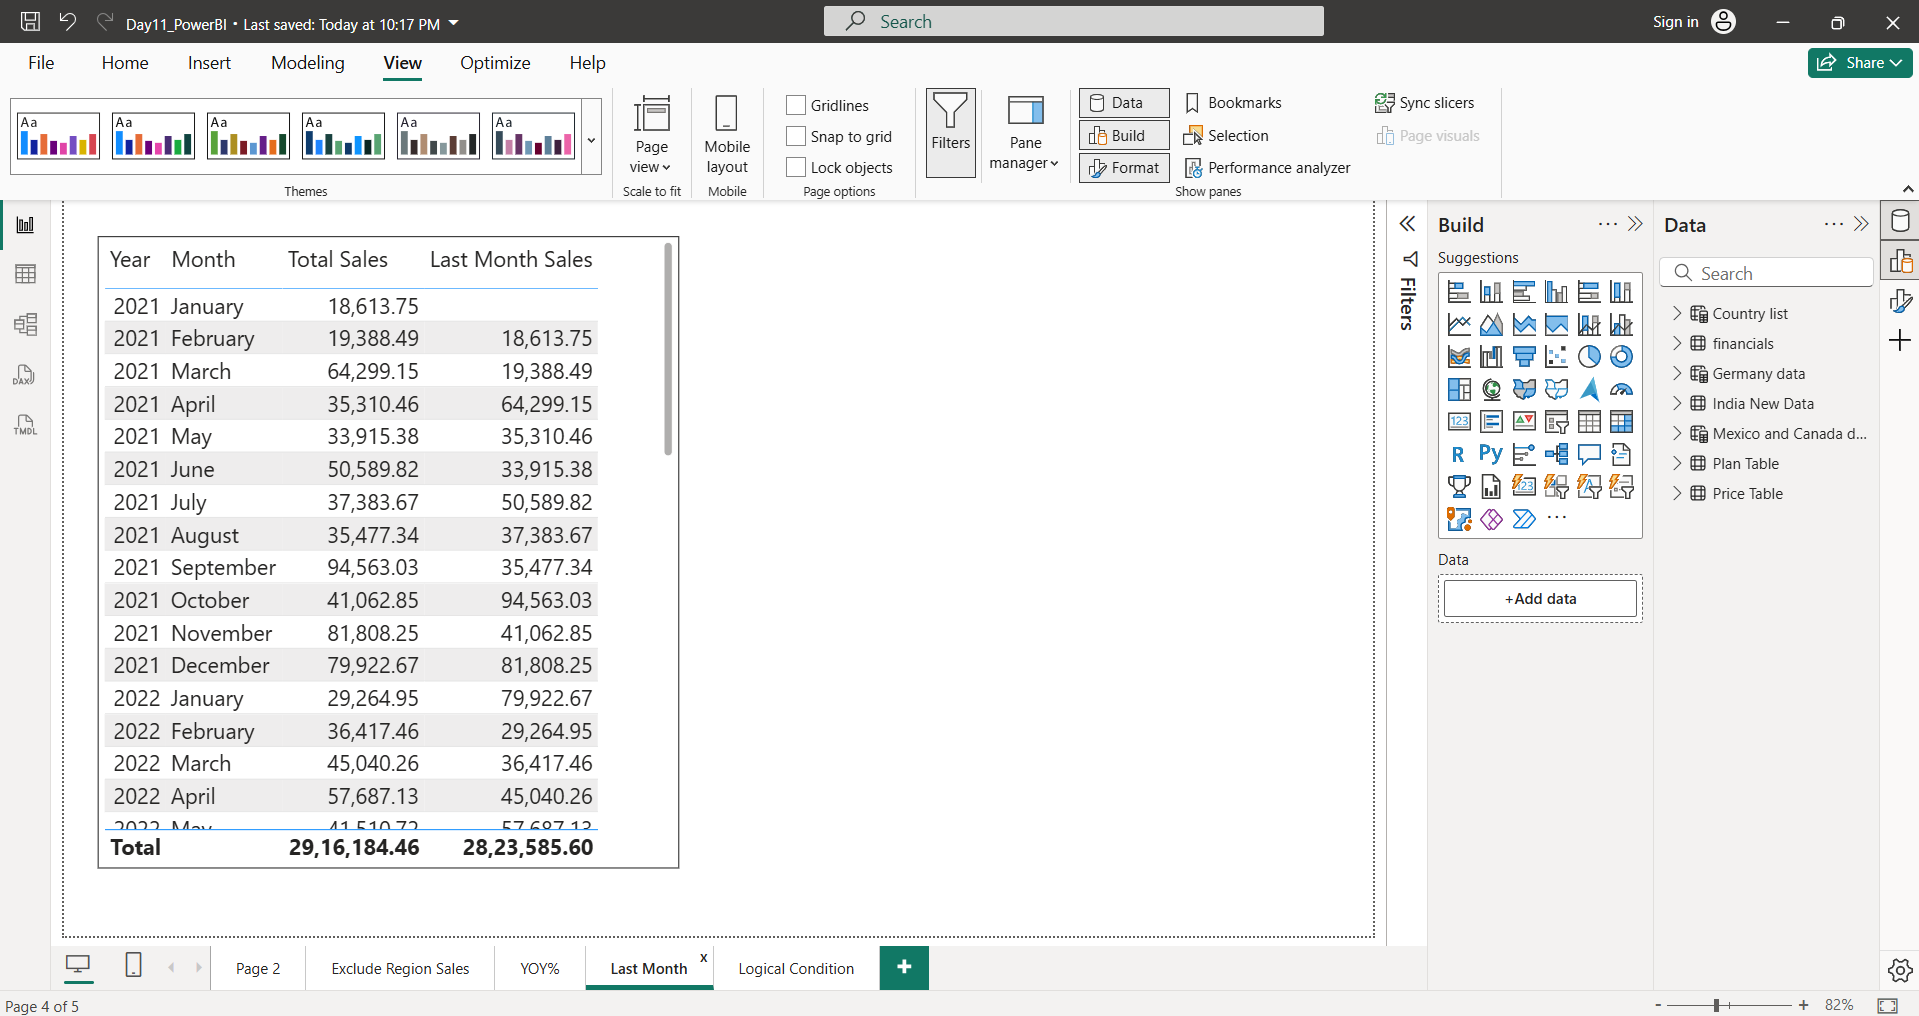

The page's visual inventory and layout, read from the dashboard file:
{"tool":"powerbi","page":{"name":"Last Month","canvas":[1280,720],"ordinal":3},"visuals":[{"type":"tableEx","fields":{"Values":["India New Data.Order Date.Variation.Date Hierarchy.Year","India New Data.Order Date.Variation.Date Hierarchy.Month","India New Data.Total Sales","India New Data.Last Month Sales"]},"box":[32.9,35.7,568.6,618.6],"z":0}]}

Visuals, with their boxes on the page's 1280x720 design canvas (x1, y1, x2, y2). These are canvas units, not pixel positions in the 1919x1016 screenshot, which may show the page scaled, cropped or inside an application window:
tableEx - India New Data.Order Date.Variation.Date Hierarchy.Year x India New Data.Order Date.Variation.Date Hierarchy.Month: BBox(33, 36, 602, 654)
